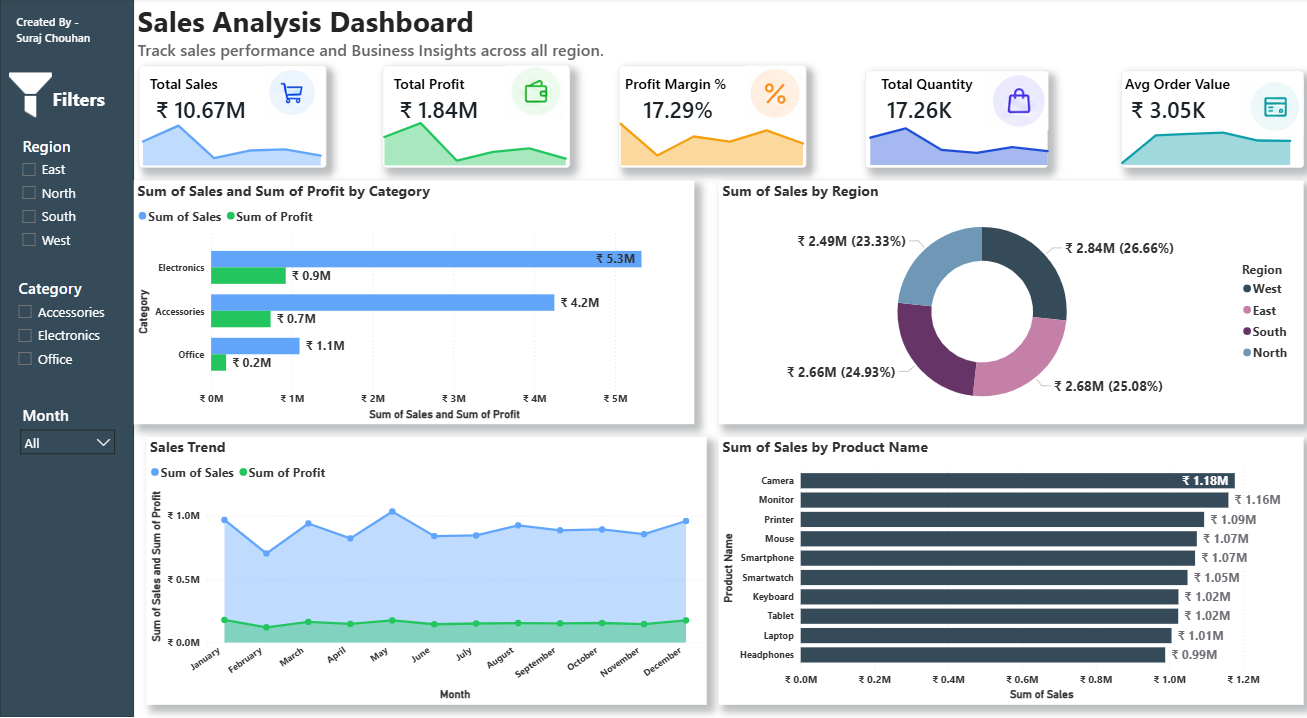

This screenshot's page, from the dashboard's own definition file:
{"tool":"powerbi","page":{"name":"Sales Analysis Dashboard","canvas":[1720,950],"ordinal":0},"visuals":[{"type":"shape","box":[0,0,176,944],"z":2000},{"type":"shape","box":[181.5,88.5,246,134],"z":3000},{"type":"textbox","box":[176,0,464,64],"z":3500},{"type":"textbox","box":[176,48,640,48],"z":3750},{"type":"shape","box":[501.6,88.6,246,134],"z":4000},{"type":"shape","box":[812.1,88.6,246.5,134.6],"z":5000},{"type":"shape","box":[1136,96,240,128],"z":6000},{"type":"shape","box":[1472,96,240,128],"z":7000},{"type":"textbox","box":[192,96,144,48],"z":8000},{"type":"textbox","box":[512,96,112,48],"z":9000},{"type":"textbox","box":[816,96,144,48],"z":10000},{"type":"textbox","box":[1152,96,160,48],"z":11000},{"type":"textbox","box":[1472,96,176,48],"z":12000},{"type":"cardVisual","fields":{"Data":["Sum(ecommerce_sales_data.Profit)"]},"box":[496,112,192,64],"z":13000},{"type":"cardVisual","fields":{"Data":["Sum(ecommerce_sales_data.Quantity)"]},"box":[1136,112,160,64],"z":14000},{"type":"cardVisual","fields":{"Data":["Sum(ecommerce_sales_data.Sales)"]},"box":[176,112,192,64],"z":15000},{"type":"cardVisual","fields":{"Data":["ecommerce_sales_data.Profit Margin %"]},"box":[816,112,176,64],"z":16000},{"type":"cardVisual","fields":{"Data":["ecommerce_sales_data.Average Order Value"]},"box":[1456,112,176,64],"z":17000},{"type":"image","box":[345.2,88.4,80.8,72.3],"z":18000},{"type":"image","box":[665.5,88.5,80.8,72.3],"z":19000},{"type":"image","box":[977.7,88.5,80.8,72.3],"z":20000},{"type":"image","box":[1632,96,80,96],"z":21000},{"type":"image","box":[1296,96,80,80],"z":22000},{"type":"areaChart","fields":{"Y":["Sum(ecommerce_sales_data.Sales)"],"Category":["ecommerce_sales_data.Order Date.Variation.Date Hierarchy.Month"]},"box":[164.9,138.8,280.8,85.7],"z":23000},{"type":"areaChart","fields":{"Category":["ecommerce_sales_data.Order Date.Variation.Date Hierarchy.Month"],"Y":["Sum(ecommerce_sales_data.Profit)"]},"box":[480.5,139.9,286.1,85.5],"z":24000},{"type":"areaChart","fields":{"Category":["ecommerce_sales_data.Order Date.Variation.Date Hierarchy.Month"],"Y":["ecommerce_sales_data.Profit Margin %"]},"box":[791.5,139.9,287.7,85.5],"z":25000},{"type":"areaChart","fields":{"Category":["ecommerce_sales_data.Order Date.Variation.Date Hierarchy.Month"],"Y":["Sum(ecommerce_sales_data.Quantity)"]},"box":[1120,144,280,80],"z":26000},{"type":"areaChart","fields":{"Category":["ecommerce_sales_data.Order Date.Variation.Date Hierarchy.Month"],"Y":["ecommerce_sales_data.Average Order Value"]},"box":[1456,144,256,80],"z":27000},{"type":"clusteredBarChart","fields":{"Category":["ecommerce_sales_data.Category"],"Y":["Sum(ecommerce_sales_data.Sales)","Sum(ecommerce_sales_data.Profit)"]},"box":[176,240,736,320],"z":28000},{"type":"donutChart","fields":{"Category":["ecommerce_sales_data.Region"],"Y":["Sum(ecommerce_sales_data.Sales)"]},"box":[944,240,768,320],"z":29000},{"type":"areaChart","title":"Sales Trend","fields":{"Category":["ecommerce_sales_data.Order Date.Variation.Date Hierarchy.Month"],"Y":["Sum(ecommerce_sales_data.Sales)","Sum(ecommerce_sales_data.Profit)"]},"box":[192,576,736,352],"z":30000},{"type":"barChart","fields":{"Category":["ecommerce_sales_data.Product Name"],"Y":["Sum(ecommerce_sales_data.Sales)"]},"box":[944,576,768,352],"z":31000},{"type":"slicer","fields":{"Values":["ecommerce_sales_data.Region"]},"box":[16,176,128,192],"z":32000},{"type":"slicer","fields":{"Values":["ecommerce_sales_data.Category"]},"box":[16,368,144,144],"z":33000},{"type":"slicer","fields":{"Values":["ecommerce_sales_data.Order Date.Variation.Date Hierarchy.Month"]},"box":[16,528,144,96],"z":34000},{"type":"textbox","box":[64,112,96,48],"z":35000},{"type":"image","box":[0,96,80,64],"z":36000},{"type":"textbox","box":[16,16,144,64],"z":38000}]}

Visuals, with their boxes on the page's 1720x950 design canvas (x1, y1, x2, y2). These are canvas units, not pixel positions in the 1307x718 screenshot, which may show the page scaled, cropped or inside an application window:
shape: (x1=0, y1=0, x2=176, y2=944)
shape: (x1=182, y1=88, x2=428, y2=222)
textbox: (x1=176, y1=0, x2=640, y2=64)
textbox: (x1=176, y1=48, x2=816, y2=96)
shape: (x1=502, y1=89, x2=748, y2=223)
shape: (x1=812, y1=89, x2=1059, y2=223)
shape: (x1=1136, y1=96, x2=1376, y2=224)
shape: (x1=1472, y1=96, x2=1712, y2=224)
textbox: (x1=192, y1=96, x2=336, y2=144)
textbox: (x1=512, y1=96, x2=624, y2=144)
textbox: (x1=816, y1=96, x2=960, y2=144)
textbox: (x1=1152, y1=96, x2=1312, y2=144)
textbox: (x1=1472, y1=96, x2=1648, y2=144)
cardVisual - Sum(ecommerce_sales_data.Profit): (x1=496, y1=112, x2=688, y2=176)
cardVisual - Sum(ecommerce_sales_data.Quantity): (x1=1136, y1=112, x2=1296, y2=176)
cardVisual - Sum(ecommerce_sales_data.Sales): (x1=176, y1=112, x2=368, y2=176)
cardVisual - ecommerce_sales_data.Profit Margin %: (x1=816, y1=112, x2=992, y2=176)
cardVisual - ecommerce_sales_data.Average Order Value: (x1=1456, y1=112, x2=1632, y2=176)
image: (x1=345, y1=88, x2=426, y2=161)
image: (x1=666, y1=88, x2=746, y2=161)
image: (x1=978, y1=88, x2=1058, y2=161)
image: (x1=1632, y1=96, x2=1712, y2=192)
image: (x1=1296, y1=96, x2=1376, y2=176)
areaChart - Sum(ecommerce_sales_data.Sales) x ecommerce_sales_data.Order Date.Variation.Date Hierarchy.Month: (x1=165, y1=139, x2=446, y2=224)
areaChart - ecommerce_sales_data.Order Date.Variation.Date Hierarchy.Month x Sum(ecommerce_sales_data.Profit): (x1=480, y1=140, x2=767, y2=225)
areaChart - ecommerce_sales_data.Order Date.Variation.Date Hierarchy.Month x ecommerce_sales_data.Profit Margin %: (x1=792, y1=140, x2=1079, y2=225)
areaChart - ecommerce_sales_data.Order Date.Variation.Date Hierarchy.Month x Sum(ecommerce_sales_data.Quantity): (x1=1120, y1=144, x2=1400, y2=224)
areaChart - ecommerce_sales_data.Order Date.Variation.Date Hierarchy.Month x ecommerce_sales_data.Average Order Value: (x1=1456, y1=144, x2=1712, y2=224)
clusteredBarChart - ecommerce_sales_data.Category x Sum(ecommerce_sales_data.Sales): (x1=176, y1=240, x2=912, y2=560)
donutChart - ecommerce_sales_data.Region x Sum(ecommerce_sales_data.Sales): (x1=944, y1=240, x2=1712, y2=560)
"Sales Trend" areaChart: (x1=192, y1=576, x2=928, y2=928)
barChart - ecommerce_sales_data.Product Name x Sum(ecommerce_sales_data.Sales): (x1=944, y1=576, x2=1712, y2=928)
slicer - ecommerce_sales_data.Region: (x1=16, y1=176, x2=144, y2=368)
slicer - ecommerce_sales_data.Category: (x1=16, y1=368, x2=160, y2=512)
slicer - ecommerce_sales_data.Order Date.Variation.Date Hierarchy.Month: (x1=16, y1=528, x2=160, y2=624)
textbox: (x1=64, y1=112, x2=160, y2=160)
image: (x1=0, y1=96, x2=80, y2=160)
textbox: (x1=16, y1=16, x2=160, y2=80)
